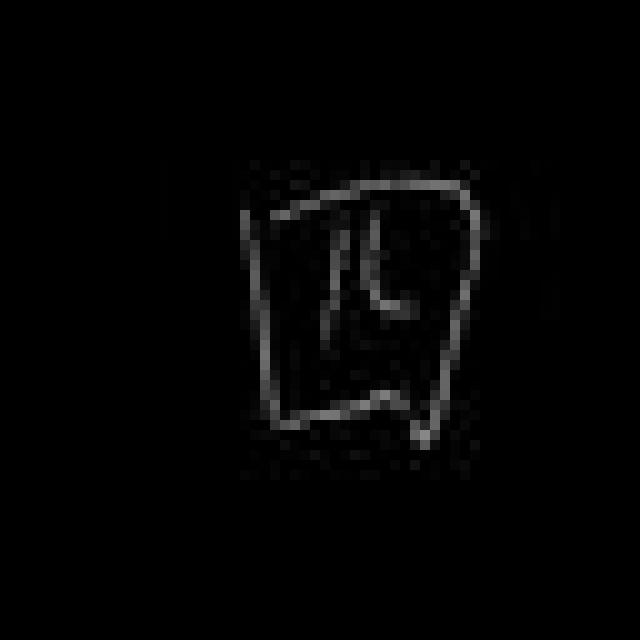4 -four-: (230, 163, 491, 455)
